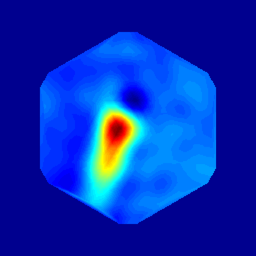ship: (119, 91, 137, 117)
wave: (108, 111, 130, 157)
